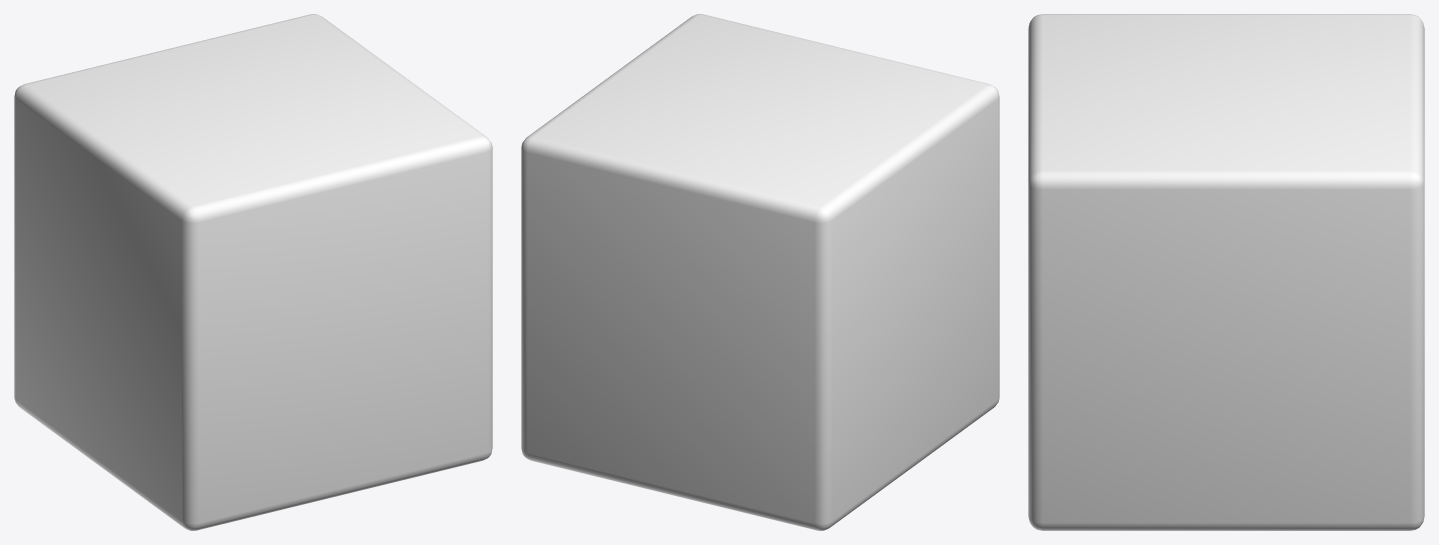
File: white_small_square.glb
3 renders of one model, left to right at view 1: azimuth 30°, elevation 25°; view 2: azimuth 150°, elevation 25°; view 3: azimuth 270°, elevation 25°, orthographic. The views are drawn at different scales.
Visible parts, largest first — view 1: brown_square.008; view 2: brown_square.008; view 3: brown_square.008.
Boxes of the visible parts, left/top/right/bottom form: brown_square.008: left=14, top=14, right=492, bottom=530; brown_square.008: left=521, top=14, right=999, bottom=530; brown_square.008: left=1028, top=14, right=1424, bottom=530.
Size of the model in its own units: 0.7509 by 0.7509 by 0.7509.
1 material, 1 textured.
